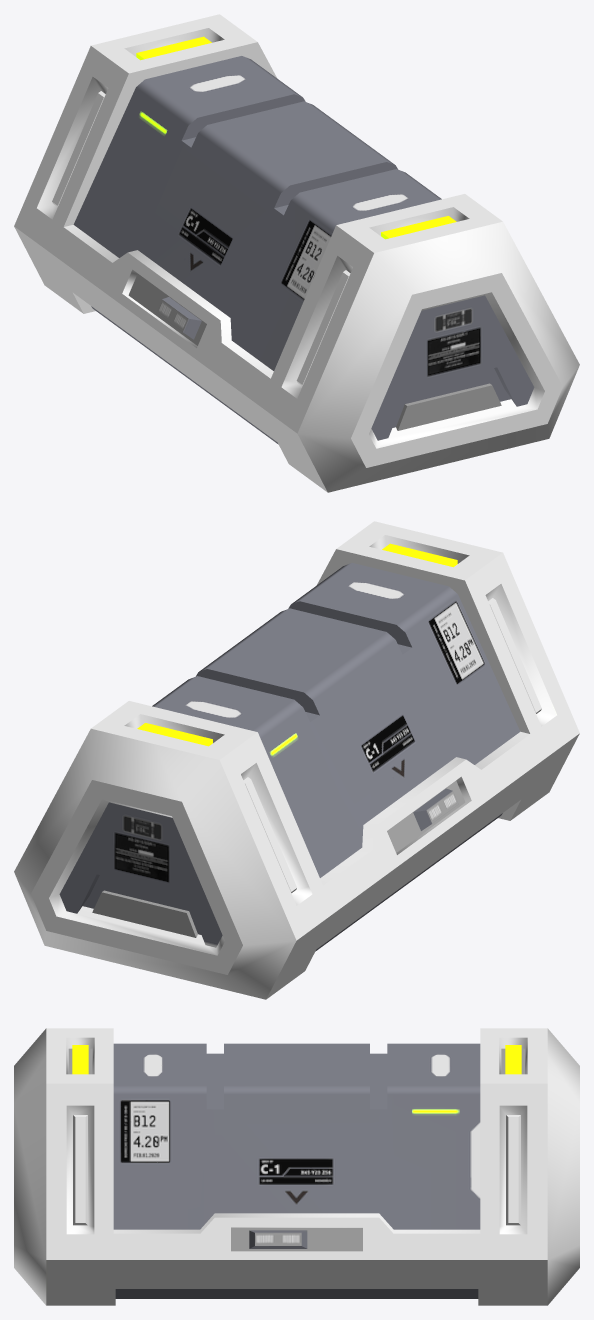
The model's file is sci-fi_crate__ammunition_box_2_optimized.glb.
3 renders of one model, top to bottom at view 1: azimuth 30°, elevation 25°; view 2: azimuth 150°, elevation 25°; view 3: azimuth 270°, elevation 25°, orthographic. The views are drawn at different scales.
Parts seen in each view (by area): view 1: Cube_low, Slice_low, Cube1_low, Cube.002_low, Cube.003_low, Cube.001_low; view 2: Cube_low, Slice_low, Cube1_low, Cube.002_low, Cube.003_low, Cube.001_low; view 3: Cube_low, Slice_low, Slice.001_low, Cube.002_low, Cube.001_low, Cube.003_low.
Boxes of the visible parts, left/top/right/bottom form: Cube_low: left=14, top=14, right=579, bottom=492; Slice_low: left=73, top=56, right=441, bottom=370; Cube1_low: left=396, top=383, right=501, bottom=430; Cube.002_low: left=52, top=91, right=350, bottom=385; Cube.003_low: left=136, top=36, right=456, bottom=239; Cube.001_low: left=156, top=297, right=201, bottom=339; Cube_low: left=14, top=521, right=579, bottom=999; Slice_low: left=152, top=563, right=520, bottom=877; Cube1_low: left=92, top=890, right=197, bottom=937; Cube.002_low: left=243, top=598, right=541, bottom=892; Cube.003_low: left=137, top=543, right=457, bottom=746; Cube.001_low: left=413, top=788, right=458, bottom=830; Cube_low: left=14, top=1028, right=579, bottom=1305; Slice_low: left=113, top=1043, right=480, bottom=1229; Slice.001_low: left=115, top=1289, right=478, bottom=1298; Cube.002_low: left=73, top=1115, right=520, bottom=1225; Cube.001_low: left=249, top=1230, right=307, bottom=1248; Cube.003_low: left=72, top=1045, right=521, bottom=1074.
Size of the model in its own units: 200 by 154 by 392.
Materials: 1 (1 with a texture image).
